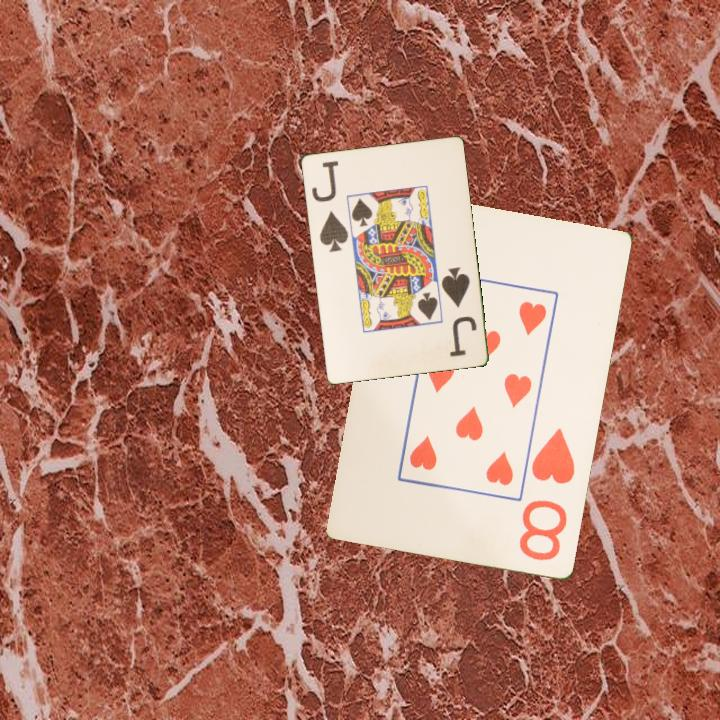8h: (516, 425, 578, 565)
Js: (308, 157, 351, 254), (438, 263, 479, 359)
